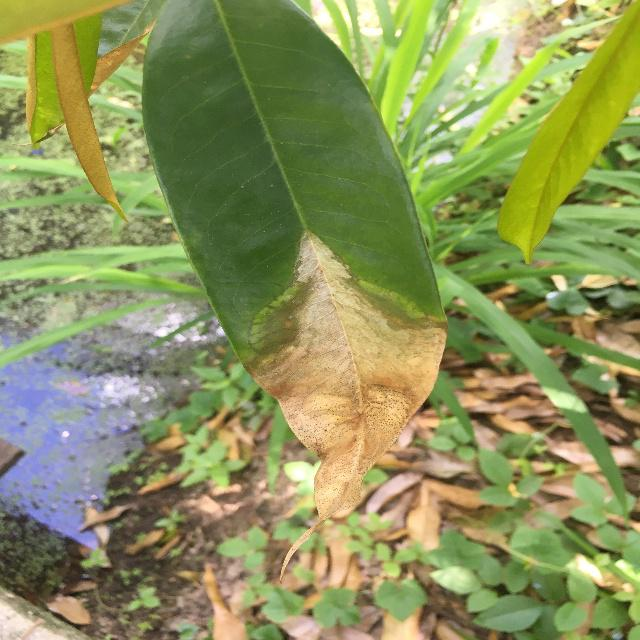Leaf Blight: (135, 0, 453, 526)
